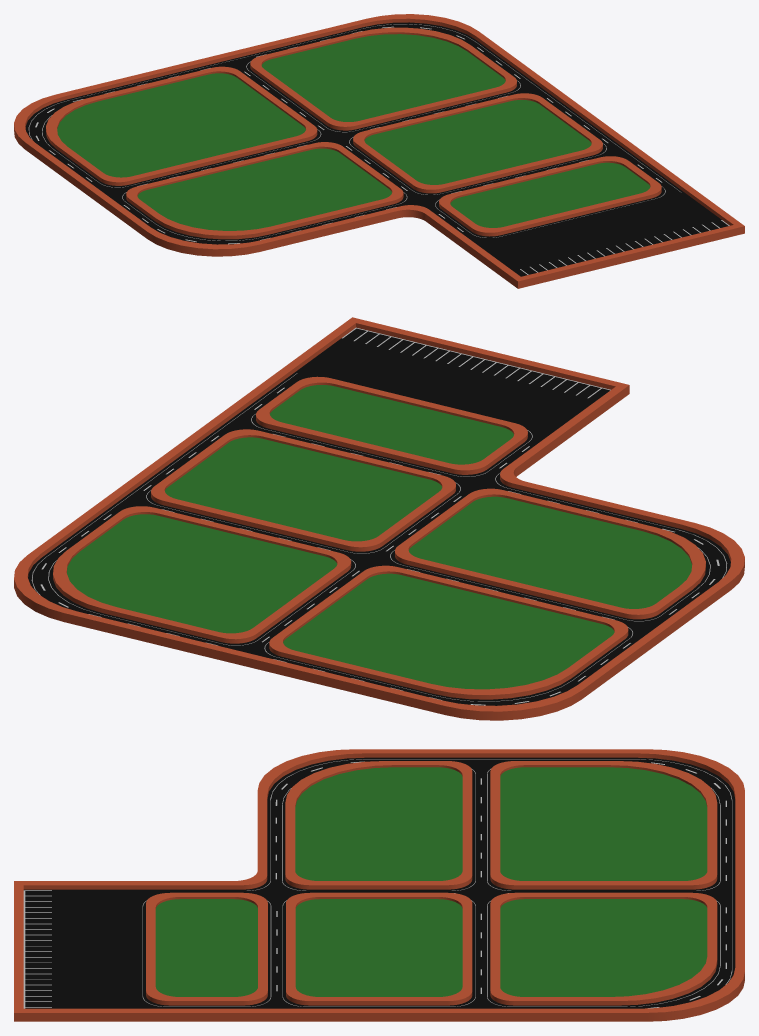
Rendered from parkur.DAE.
3 renders of one model, top to bottom at view 1: azimuth 30°, elevation 25°; view 2: azimuth 150°, elevation 25°; view 3: azimuth 270°, elevation 25°, orthographic. The views are drawn at different scales.
Visible parts, largest first — view 1: PARKUR111; view 2: PARKUR111; view 3: PARKUR111.
Boxes of the visible parts, x1=… form: PARKUR111: x1=14, y1=14, x2=744, y2=288; PARKUR111: x1=14, y1=317, x2=744, y2=720; PARKUR111: x1=14, y1=749, x2=744, y2=1021.
Bounding box in the file's own units: 5039 × 78.74 × 5906.
